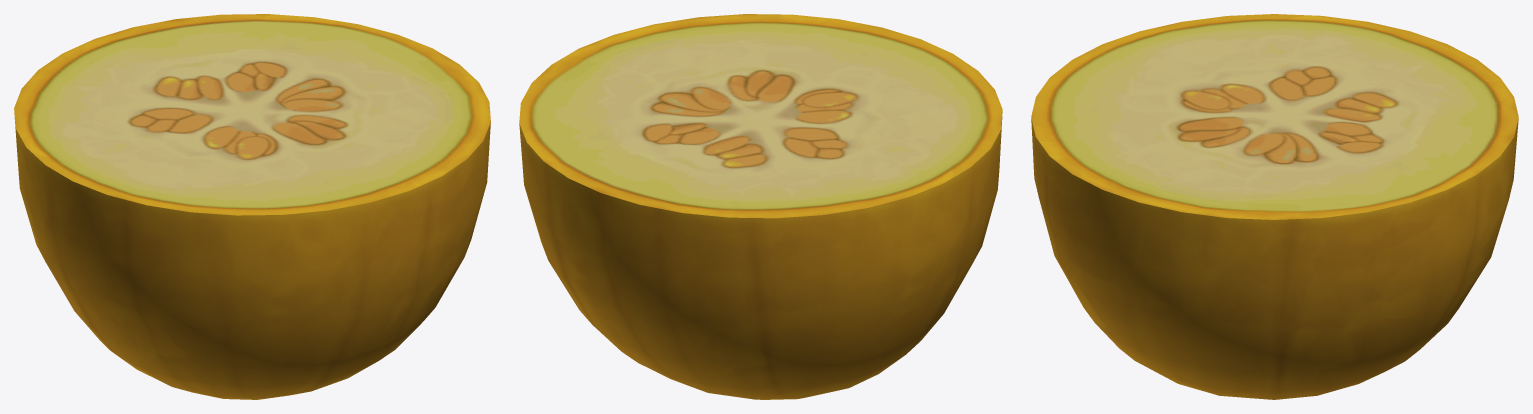
The model's file is SM_HoneydewMelonCutBottom.fbx.
The picture shows the model from 3 angles, left to right: view 1: azimuth 30°, elevation 25°; view 2: azimuth 150°, elevation 25°; view 3: azimuth 270°, elevation 25°; orthographic projection. The views are drawn at different scales.
Visible parts, largest first — view 1: SM_HoneydewMelonCutBottom; view 2: SM_HoneydewMelonCutBottom; view 3: SM_HoneydewMelonCutBottom.
Part boxes in pixels (x1,y1,x2,y2): SM_HoneydewMelonCutBottom: (14,14,490,399); SM_HoneydewMelonCutBottom: (519,14,1002,399); SM_HoneydewMelonCutBottom: (1031,14,1518,399).
Bounding box in the file's own units: 24.49 × 14.23 × 24.5.
